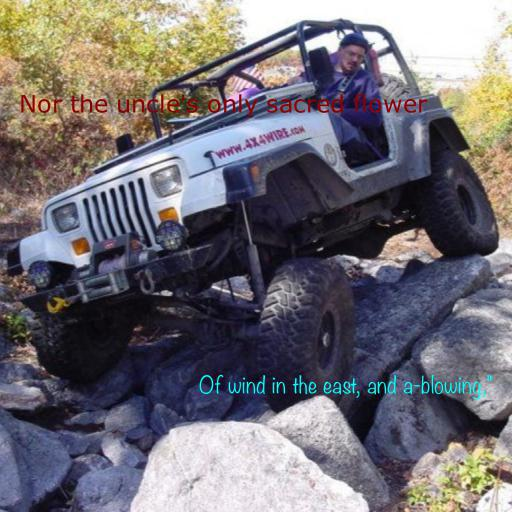Noteworthy: (198, 374, 492, 400)
Verdana: (19, 94, 427, 118)
